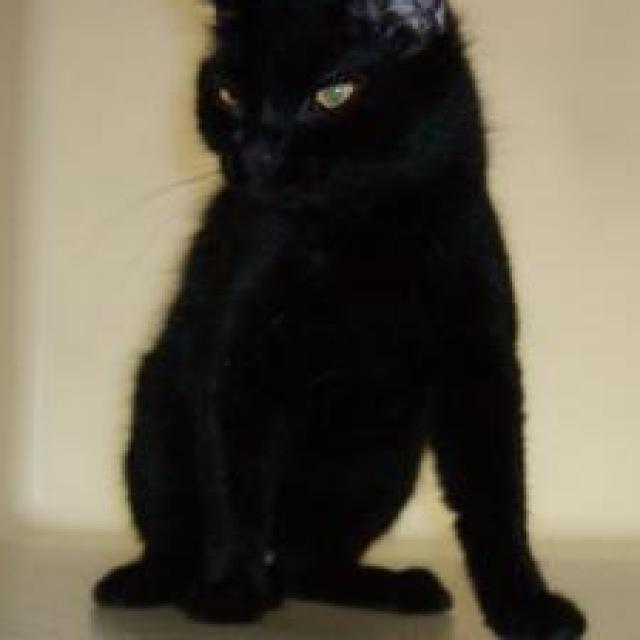Bombay: (85, 0, 592, 640)
